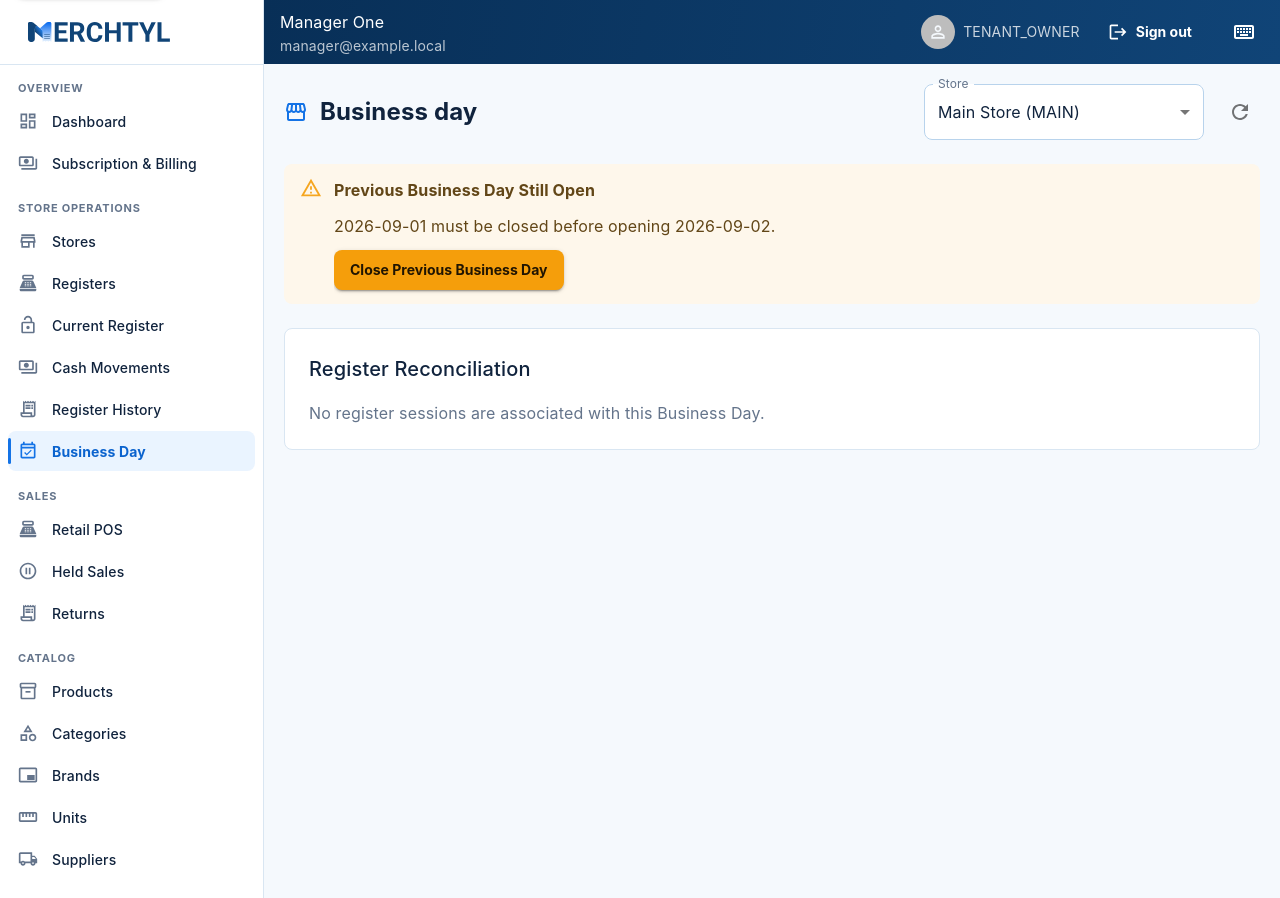
Test: Business day pages › Tenant Owner closes the exact previous business day and then sees Start Business Day
Expected: the text "Previous Business Day Still Open" is shown, 334,180 -> 595,200
Expected: the button "Start Business Day" is not shown
Click the button "Close Previous Business Day" at (449, 270), box 334,250 -> 564,290
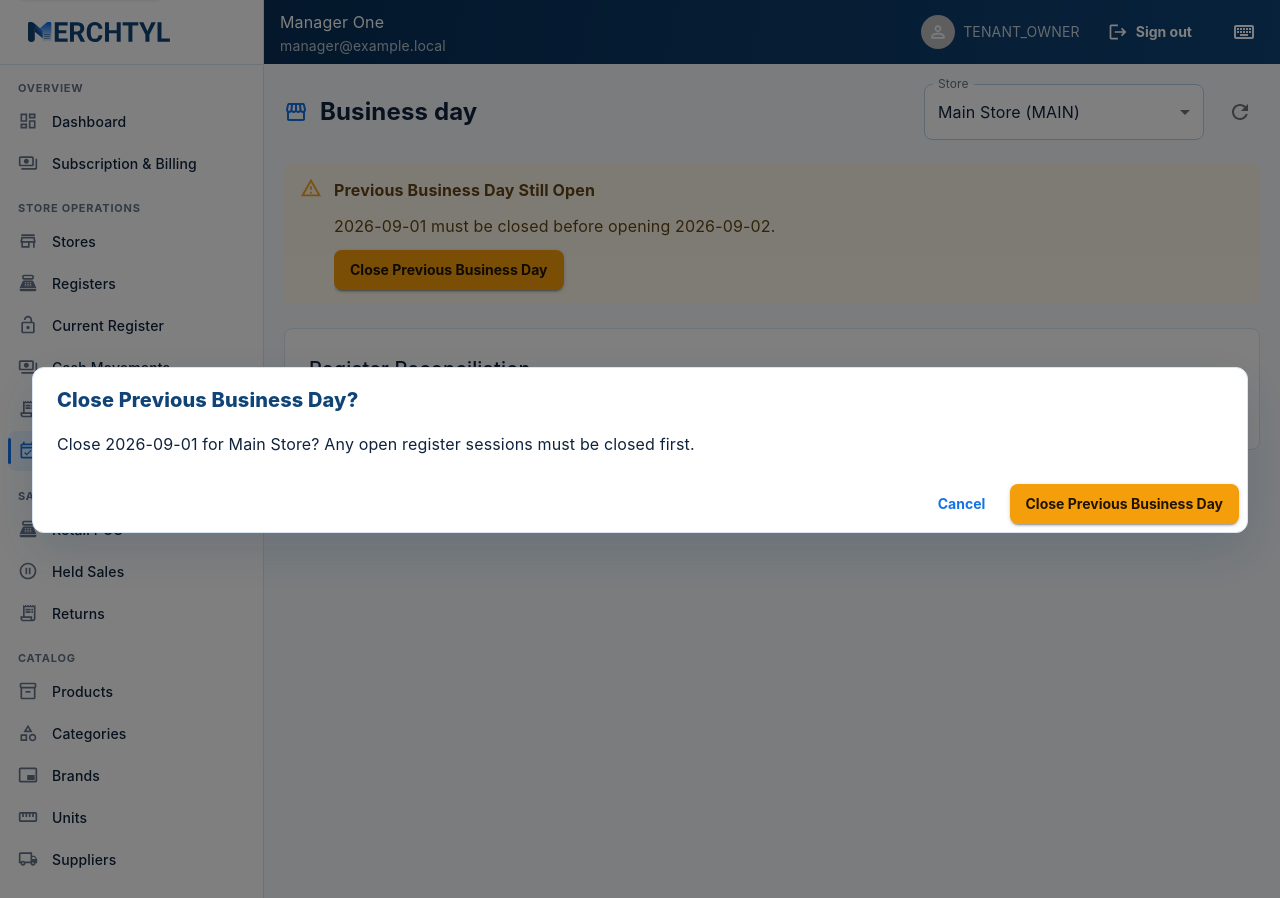
Click the button "Close Previous Business Day" at (1124, 504), box 1010,484 -> 1239,524
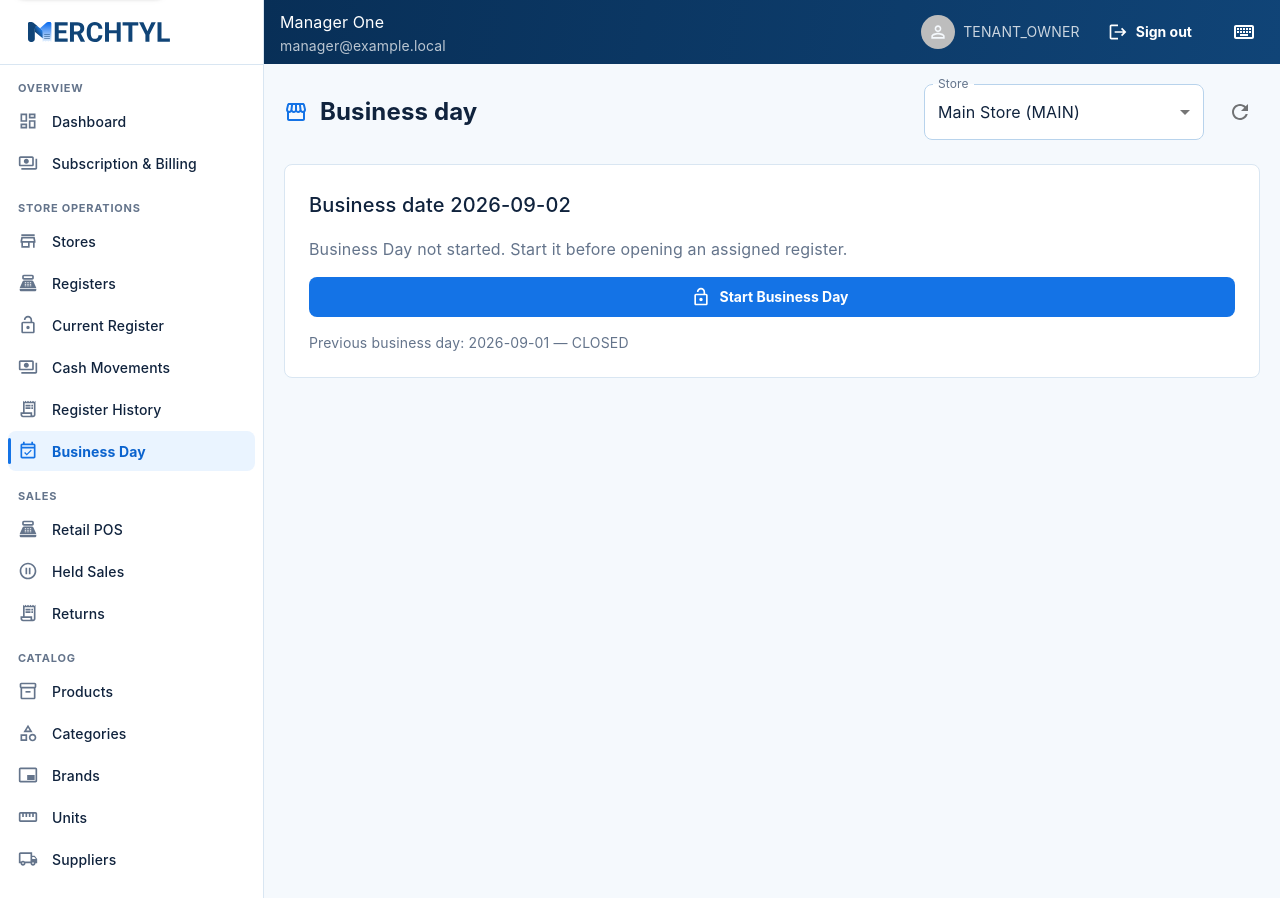
Result: the button "Start Business Day" is shown at 309,277 -> 1235,317
